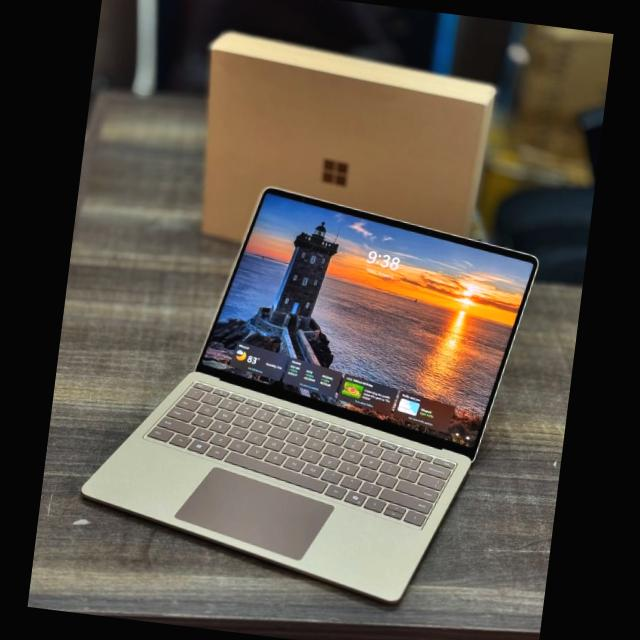laptop: (64, 168, 546, 618)
